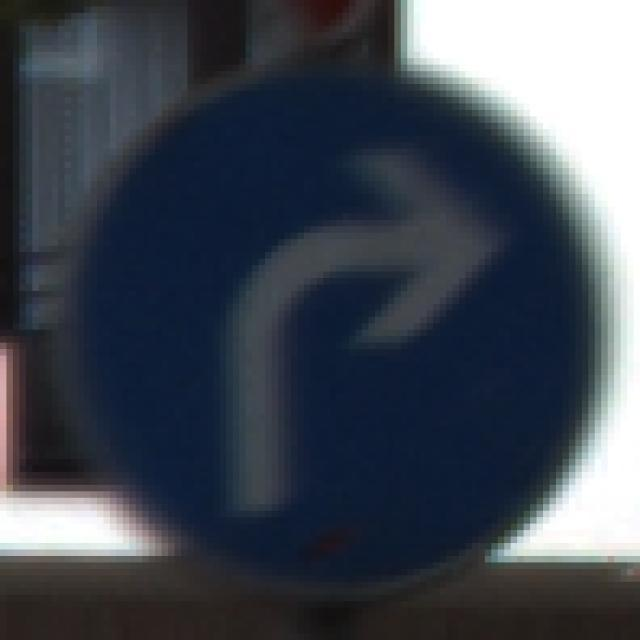compulsary turn right ahead: (41, 43, 616, 597)
